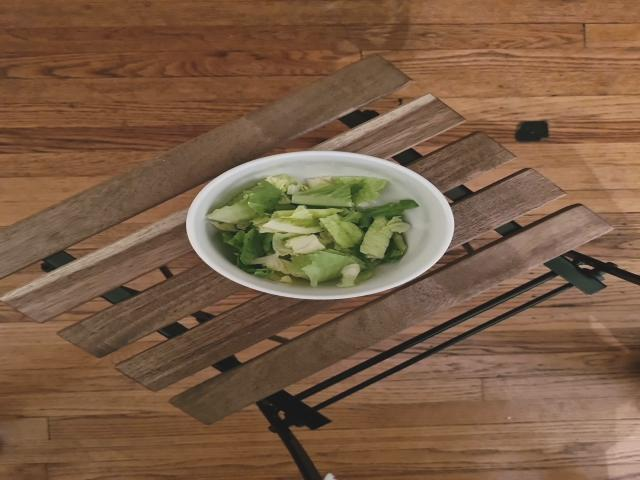kichen waste: (209, 179, 420, 284)
